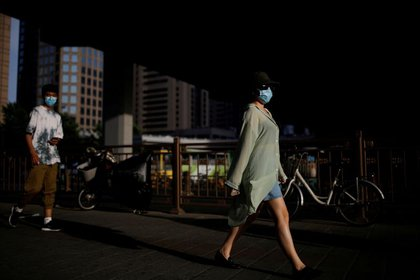with_mask: (250, 77, 277, 107), (39, 87, 62, 111)
